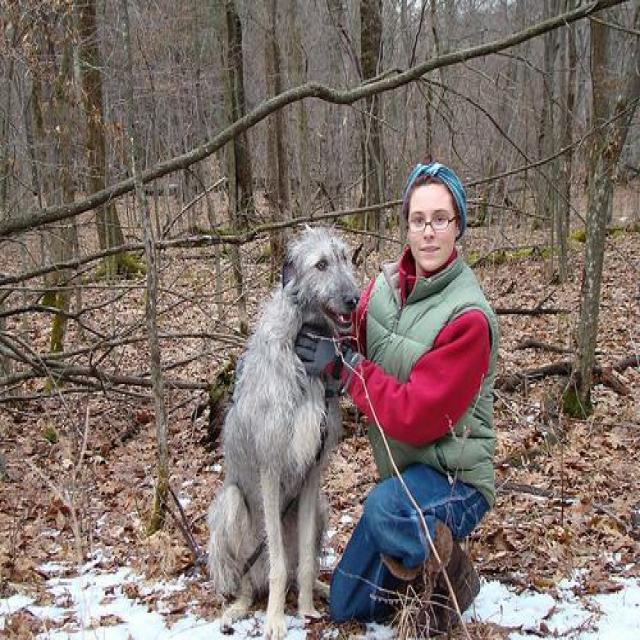irish_wolfhound: (200, 212, 363, 636)
